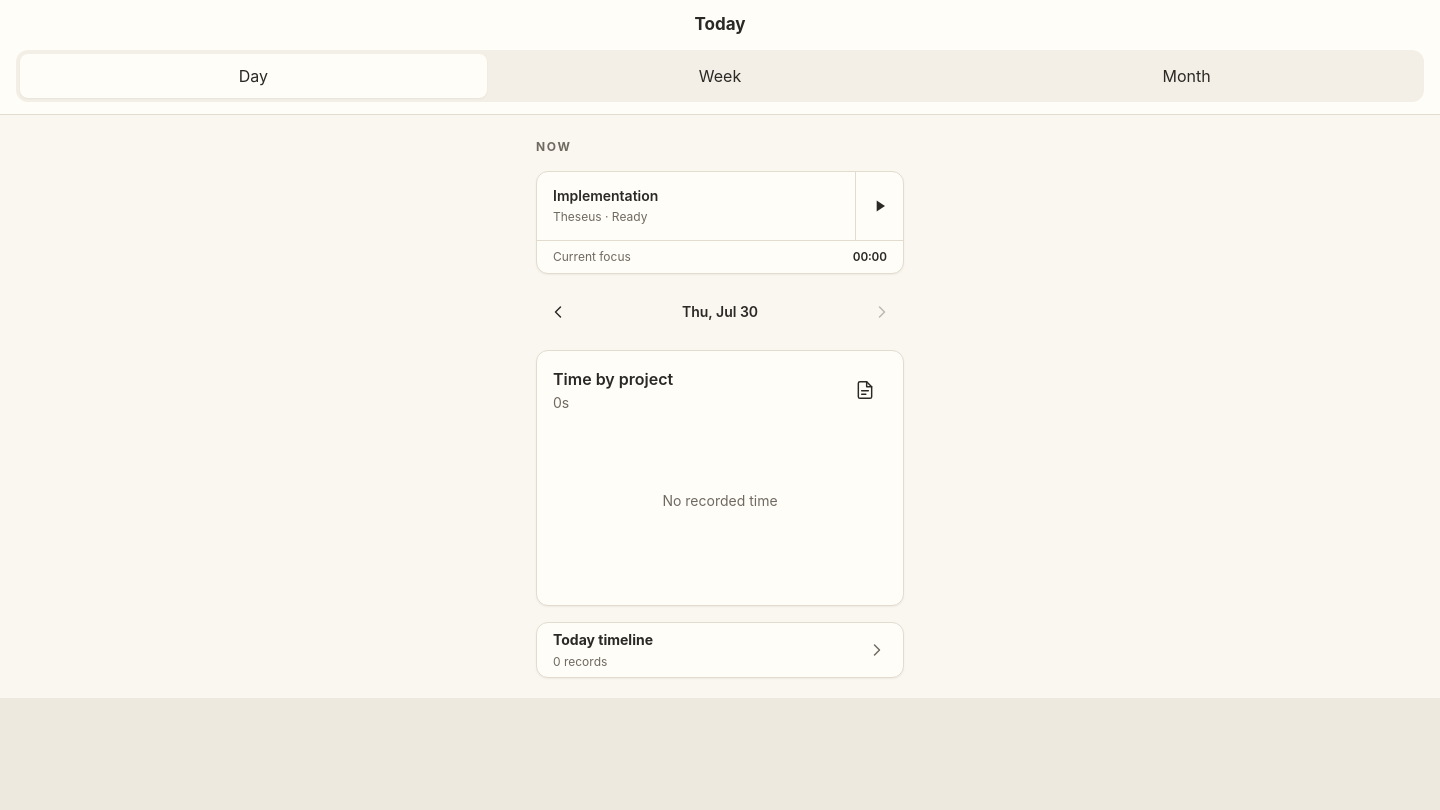
Test: TodayScreen › navigates and opens exact Month evidence after the density gate
The image size is (1440, 810).
Click the button "Month".
click(1187, 76)  # box [953,54,1420,98]
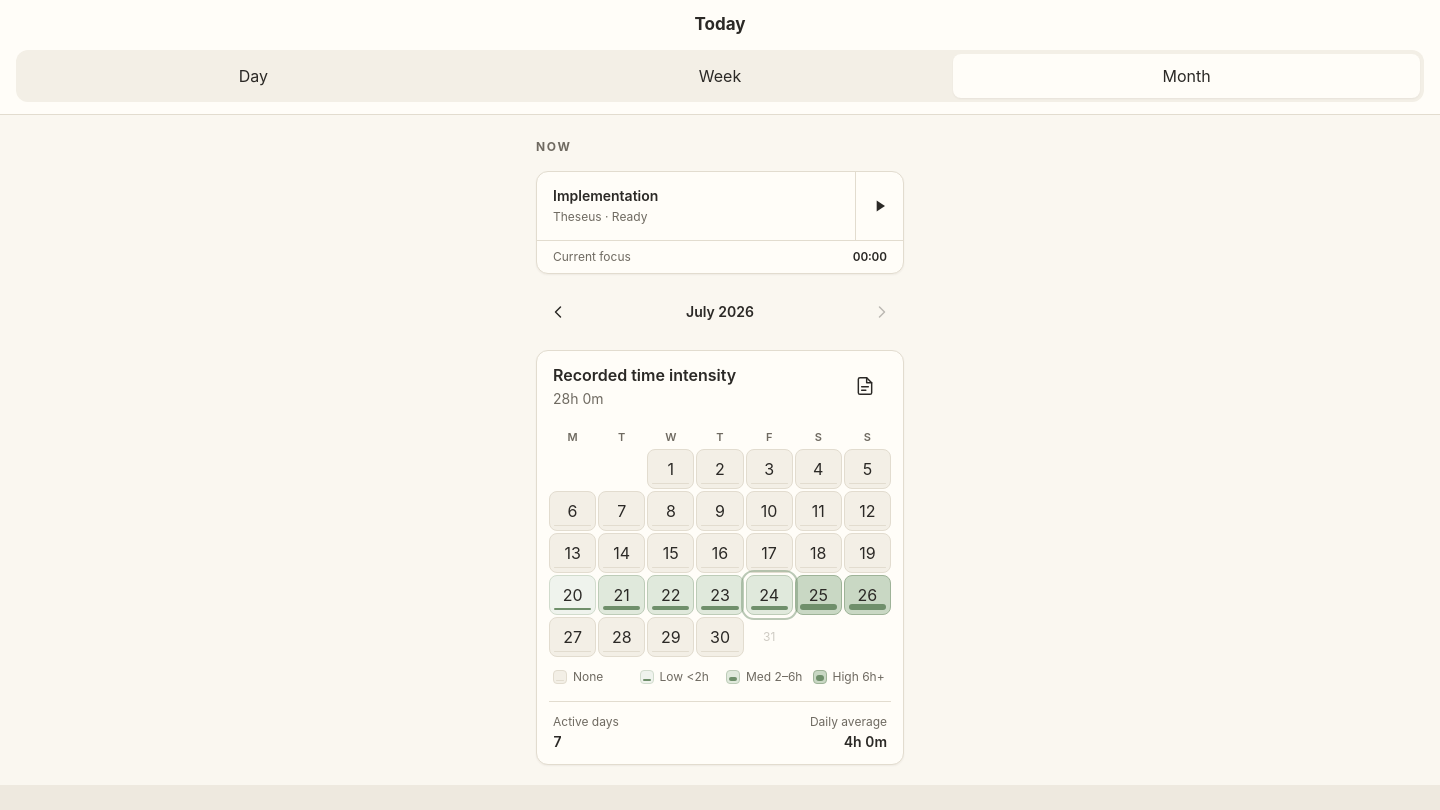
Result: the element named "Monthly recorded time calendar" is shown at [549,449,891,657]
Result: the text "Low <2h" is shown at [640,669,714,685]
Result: the text "Med 2–6h" is shown at [726,669,800,685]
Press ArrowRight in the button named "open fri, jul 24 time records, 5h 0m, medium intensity", box [746,575,793,615]
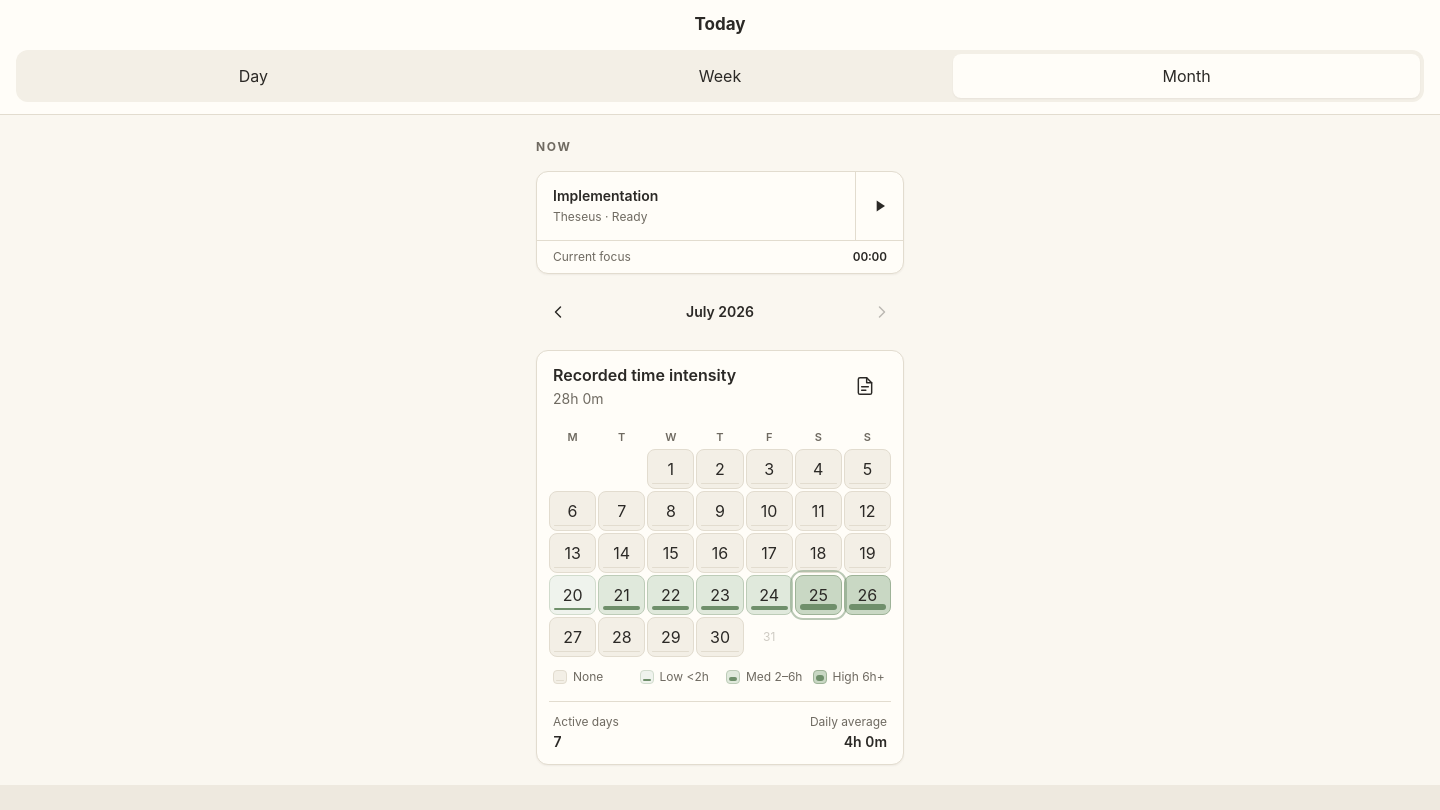
Click the button named "open fri, jul 24 time records, 5h 0m, medium intensity".
click(769, 595)  # box [746,575,793,615]
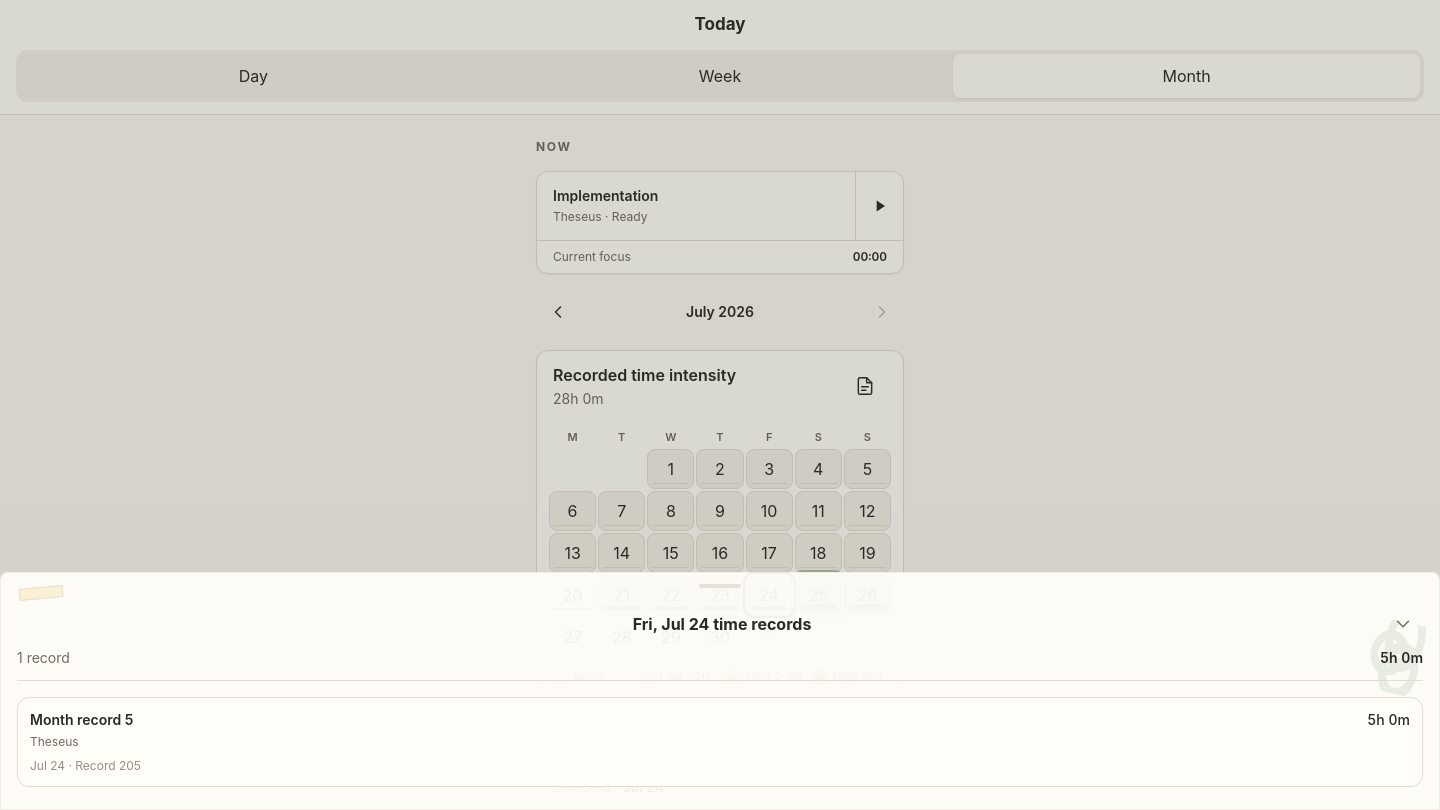
Result: the text "Month record 5" is shown at [30,710,133,730]
Result: the text "Record 205" is shown at [30,758,141,773]
Click the button named "Close" in the row of "Fri, Jul 24 time records".
click(1403, 624)  # box [1383,604,1423,644]
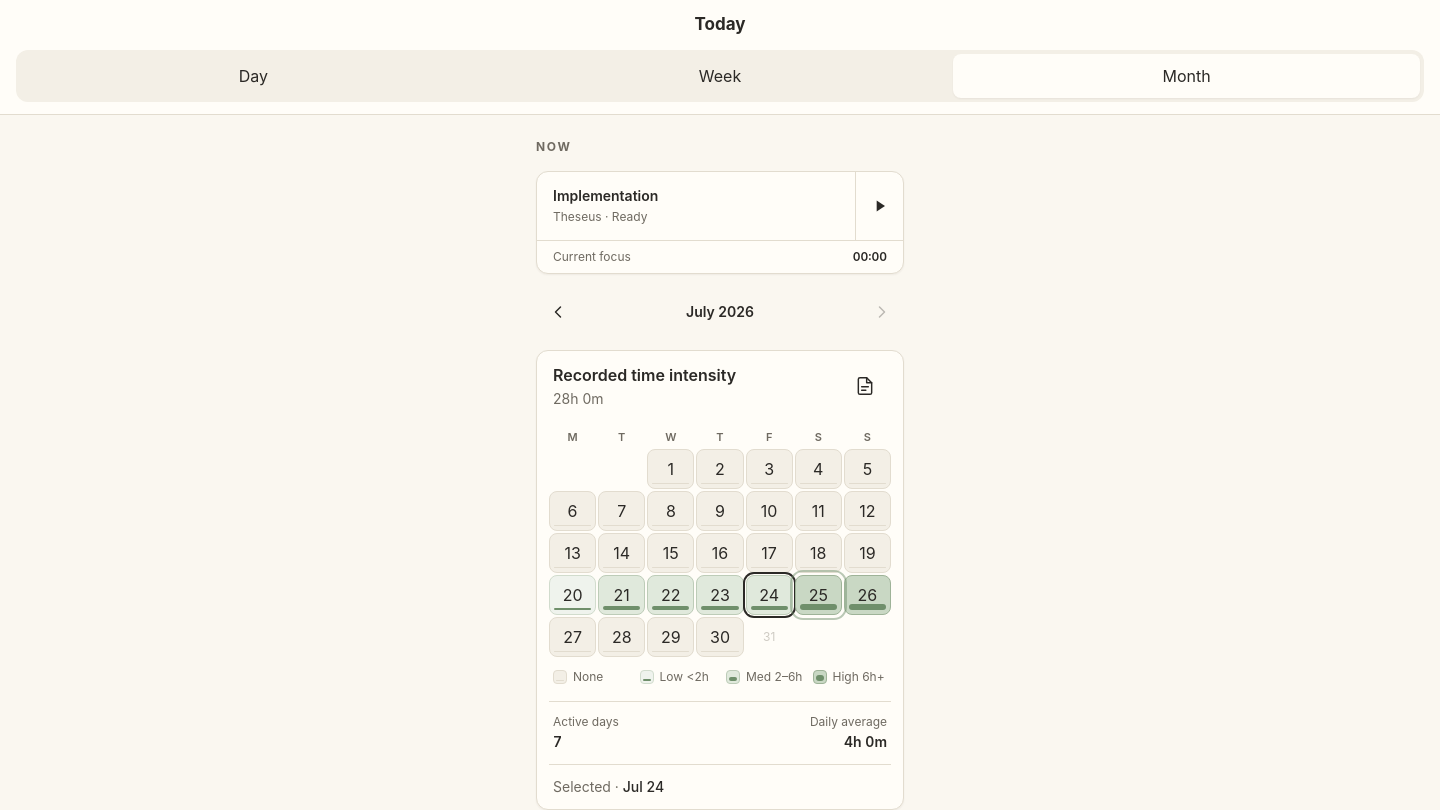
Click the button named "Previous month".
click(558, 312)  # box [536,290,580,334]
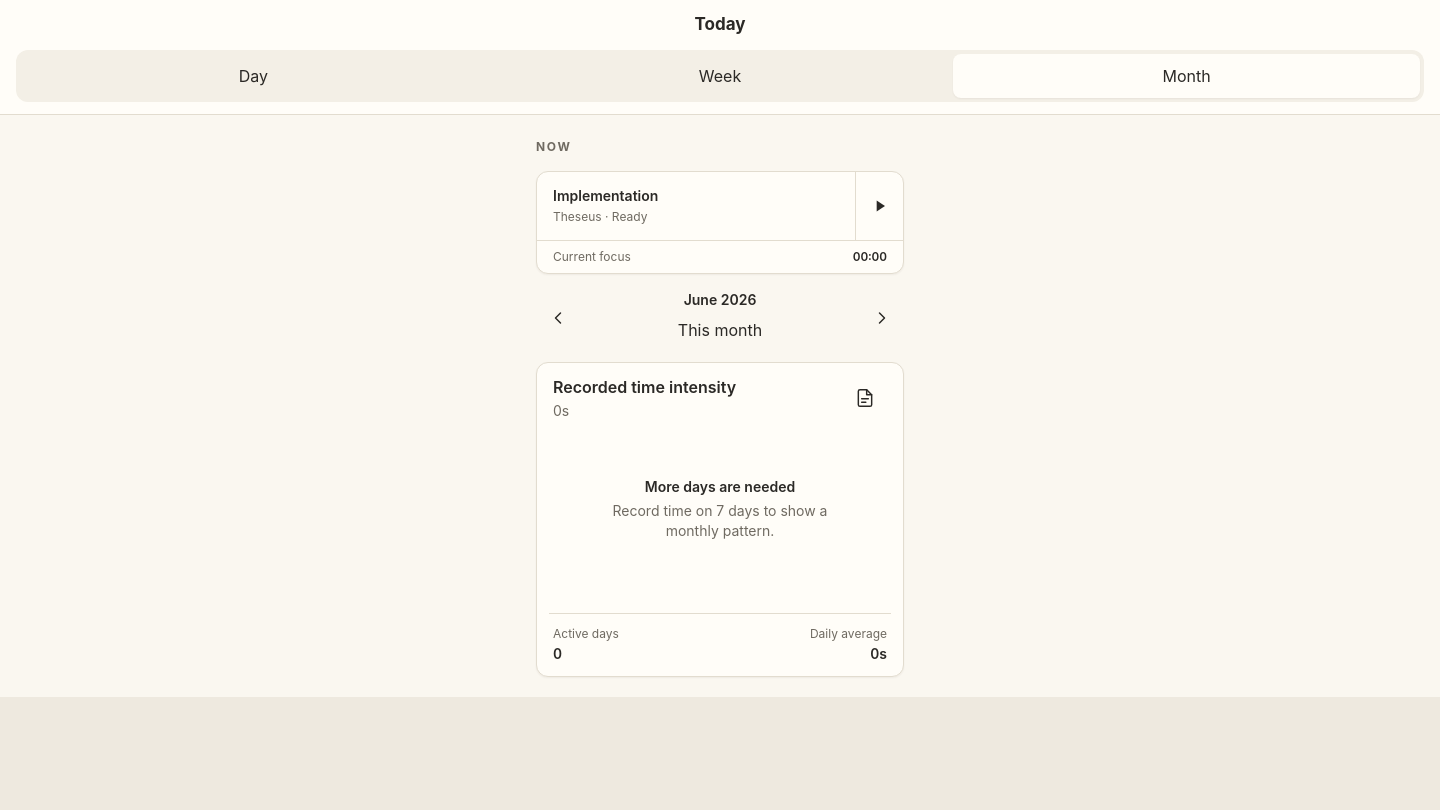
Result: the text "June 2026" is shown at [684,290,756,308]
Result: the button "This month" is shown at [666,314,774,346]
Result: the button named "Next month" is enabled at [860,296,904,340]
